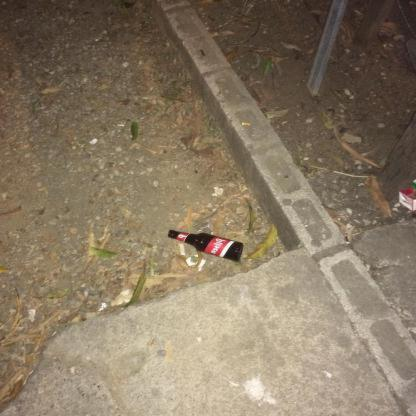Bottle cap: (168, 230, 243, 261)
Carton: (399, 187, 416, 211)
Cigarette: (241, 122, 251, 126)
